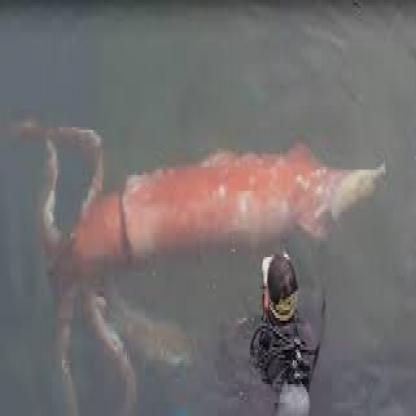colossal_squid: (29, 111, 414, 252)
